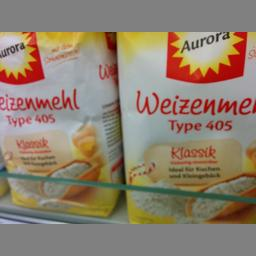flour: (116, 32, 254, 223), (0, 31, 120, 217)
